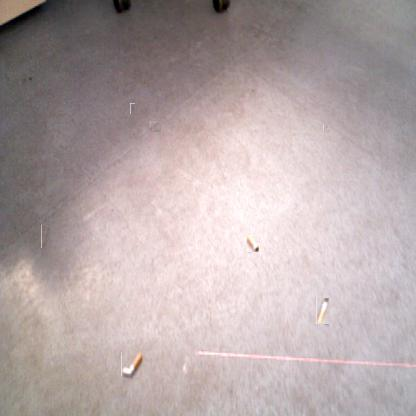dirty: (121, 352, 142, 376), (316, 298, 329, 324), (246, 235, 259, 252)
mark: (41, 224, 50, 248), (149, 122, 161, 134), (130, 103, 135, 114), (323, 125, 330, 132), (28, 76, 34, 82), (250, 87, 256, 93), (22, 76, 26, 84)
